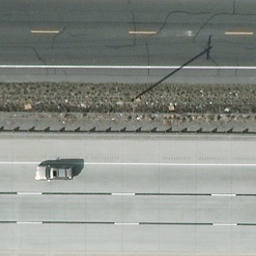car: (35, 166, 75, 182)
